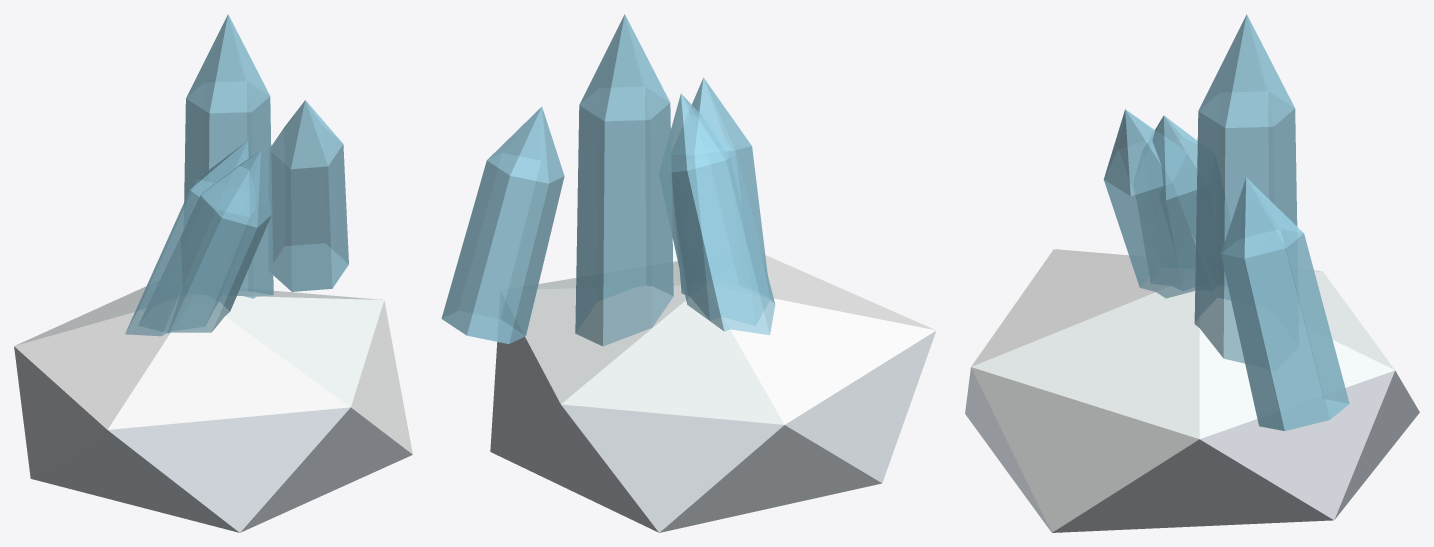
The model's file is decor_1.fbx.
3 views of the same model, side by side, from view 1: azimuth 30°, elevation 25°; view 2: azimuth 150°, elevation 25°; view 3: azimuth 270°, elevation 25° (orthographic). The views are drawn at different scales.
Visible parts, largest first — view 1: decor_1; view 2: decor_1; view 3: decor_1.
Boxes of the visible parts, x1,y1,x2,y2 form: decor_1: (14,14,412,532); decor_1: (441,14,936,532); decor_1: (965,14,1419,532).
Size of the model in its own units: 0.9997 by 1.2 by 0.9648.
